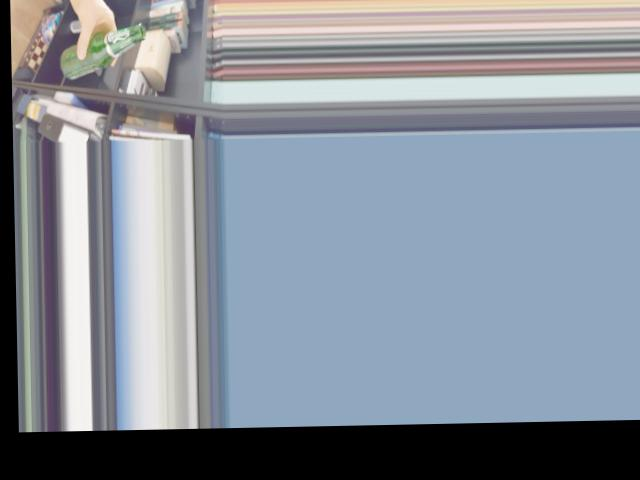beer: (59, 23, 146, 80)
